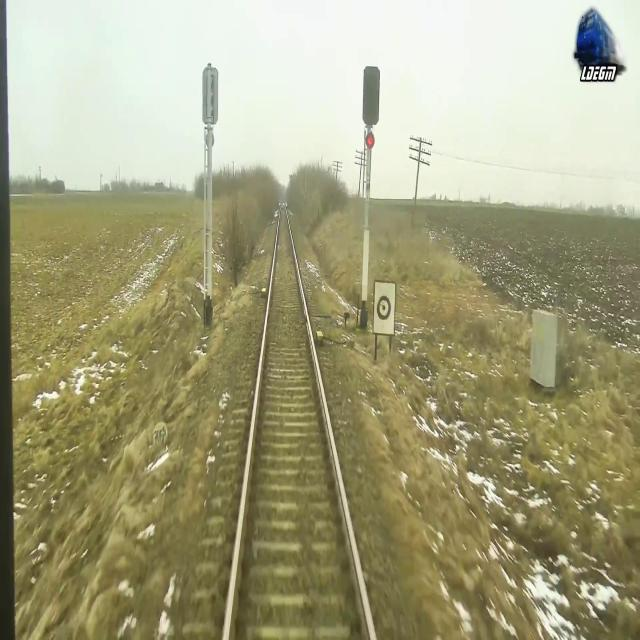rail-track: (228, 204, 370, 639)
